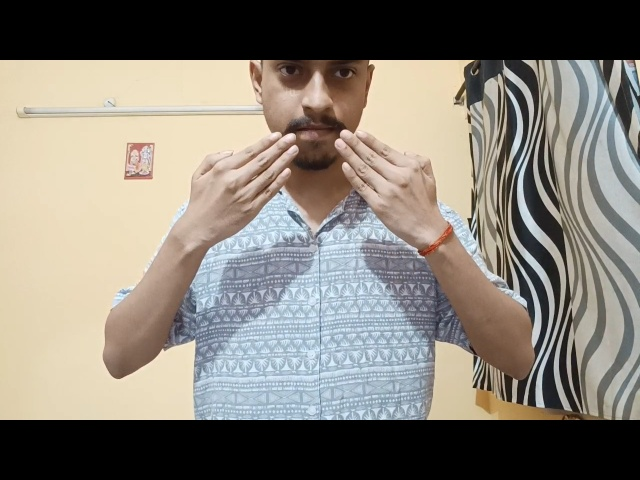Thank you: (158, 122, 473, 310)
